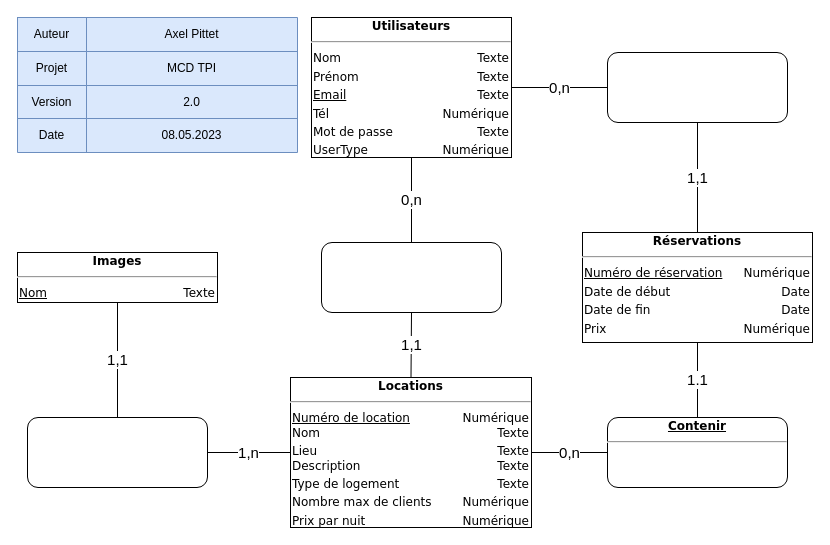
Some shapes in this 830 by 545 pixel diagram are drawn without their labels. The shapes that lost their labels are listed below. From the top down, each one's centre as x and y in pixels, then its label:
[697,87]: Créer
[411,277]: Proposer
[117,452]: Posséder
